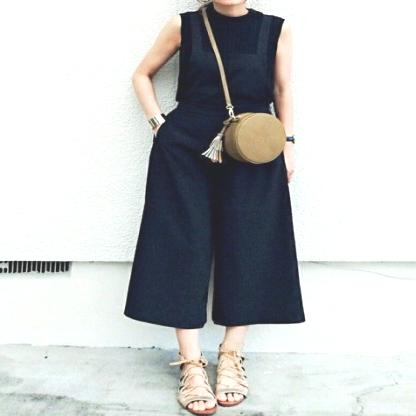dress: (122, 109, 309, 327)
jacket: (172, 7, 285, 107)
